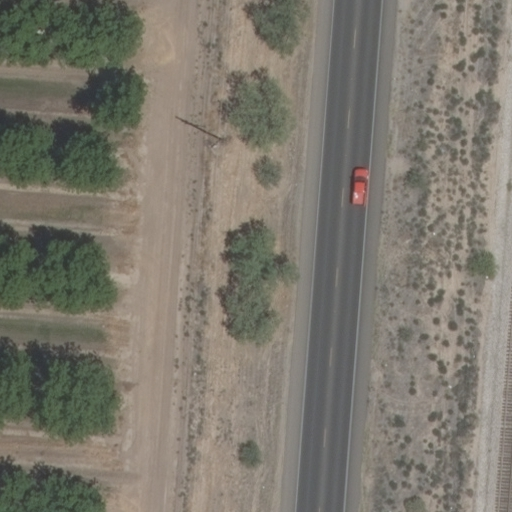DT: (179, 121, 223, 141)
